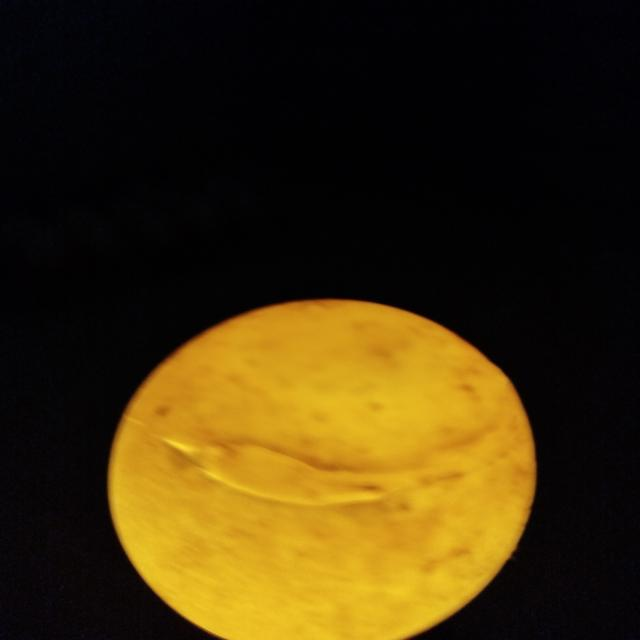Rachadura: (120, 412, 531, 510)
